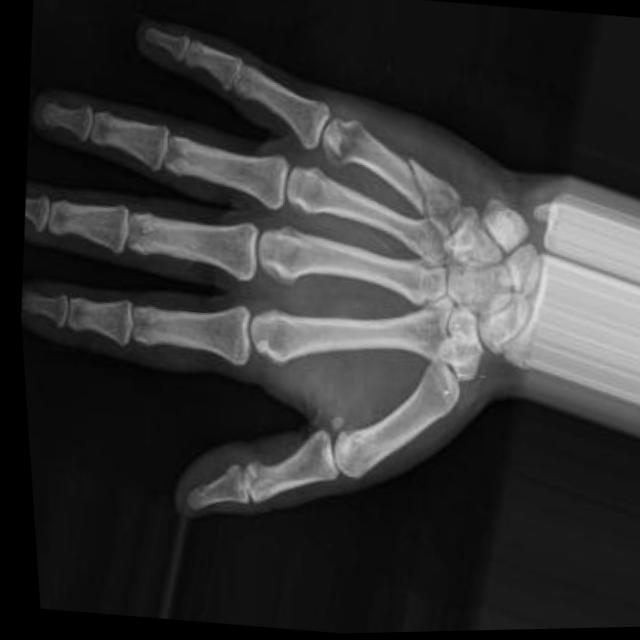fracture: (393, 148, 436, 229)
